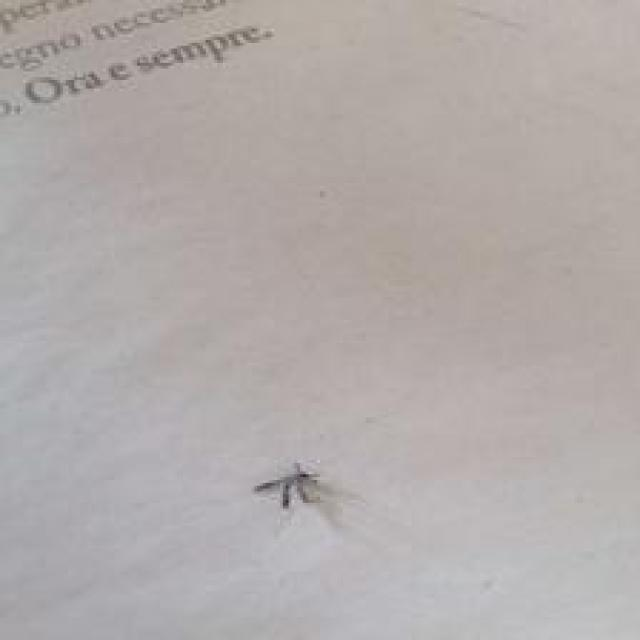Aedes albopictus: (251, 460, 363, 534)
